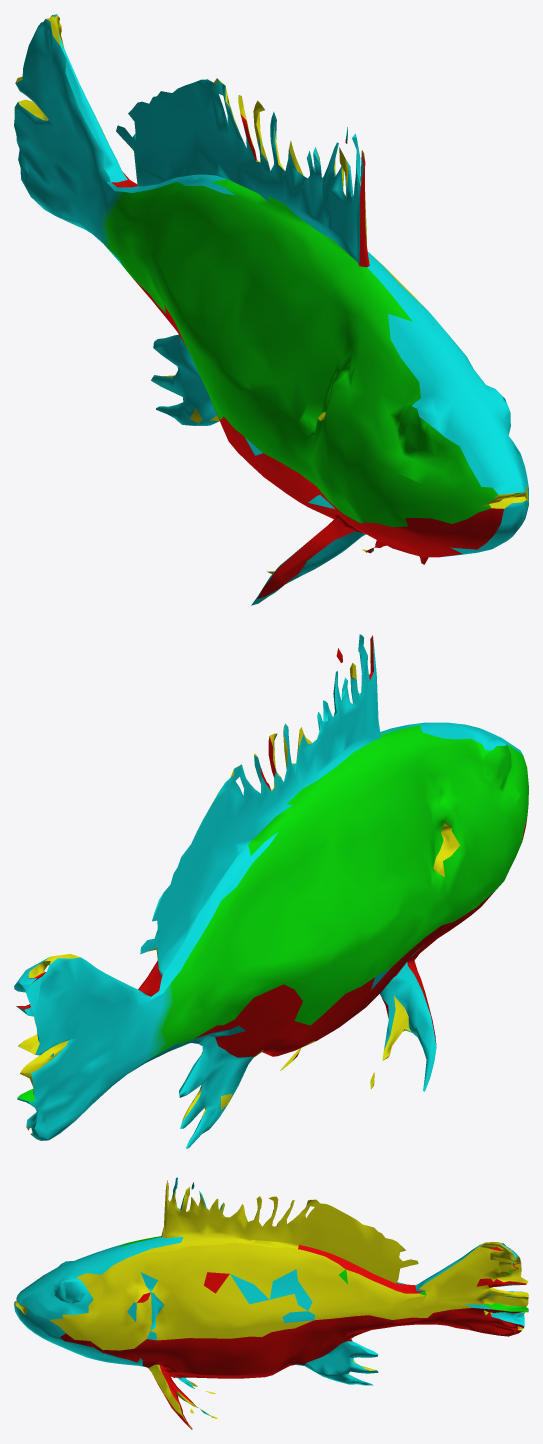
File: boguchi_clu.fbx
3 renders of one model, top to bottom at view 1: azimuth 30°, elevation 25°; view 2: azimuth 150°, elevation 25°; view 3: azimuth 270°, elevation 25°, orthographic. The views are drawn at different scales.
Bounding box in the file's own units: 0.194 × 0.5002 × 0.9999.
